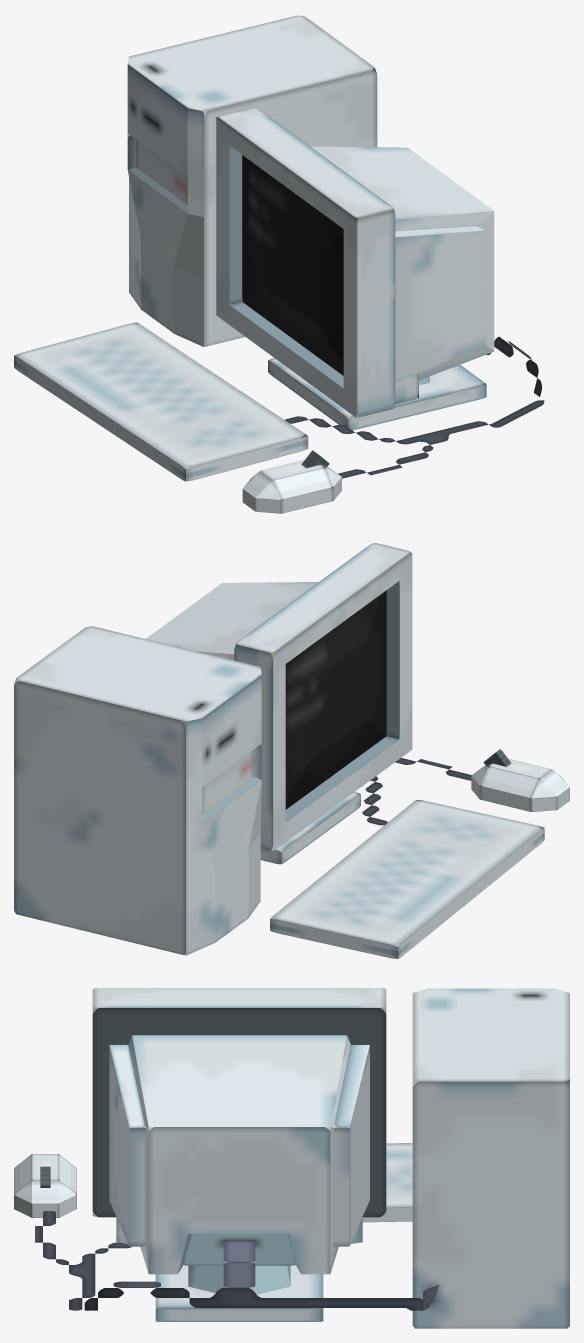
File: computer.fbx
3 views of the same model, one above another, from view 1: azimuth 30°, elevation 25°; view 2: azimuth 150°, elevation 25°; view 3: azimuth 270°, elevation 25° (orthographic). The views are drawn at different scales.
Visible parts, largest first — view 1: Monitor, PC, Keyboard, beveled_cuboid, Wires; view 2: PC, Monitor, Keyboard, beveled_cuboid, Wires; view 3: Monitor, PC, Wires, beveled_cuboid, Keyboard, cylinder.
Part boxes in pixels (x1,y1,x2,y2): Monitor: [216, 107, 494, 430]; PC: [127, 15, 377, 346]; Keyboard: [14, 322, 308, 481]; beveled_cuboid: [242, 460, 341, 513]; Wires: [285, 336, 544, 478]; PC: [14, 626, 261, 955]; Monitor: [146, 543, 412, 864]; Keyboard: [270, 799, 544, 958]; beveled_cuboid: [471, 758, 569, 811]; Wires: [362, 758, 471, 825]; Monitor: [92, 988, 386, 1321]; PC: [412, 988, 569, 1328]; Wires: [35, 1211, 438, 1310]; beveled_cuboid: [14, 1154, 76, 1217]; Keyboard: [362, 1143, 412, 1222]; cylinder: [188, 1265, 290, 1294].
Size of the model in its own units: 25.25 by 16.56 by 33.12.
1 material, 1 textured.
